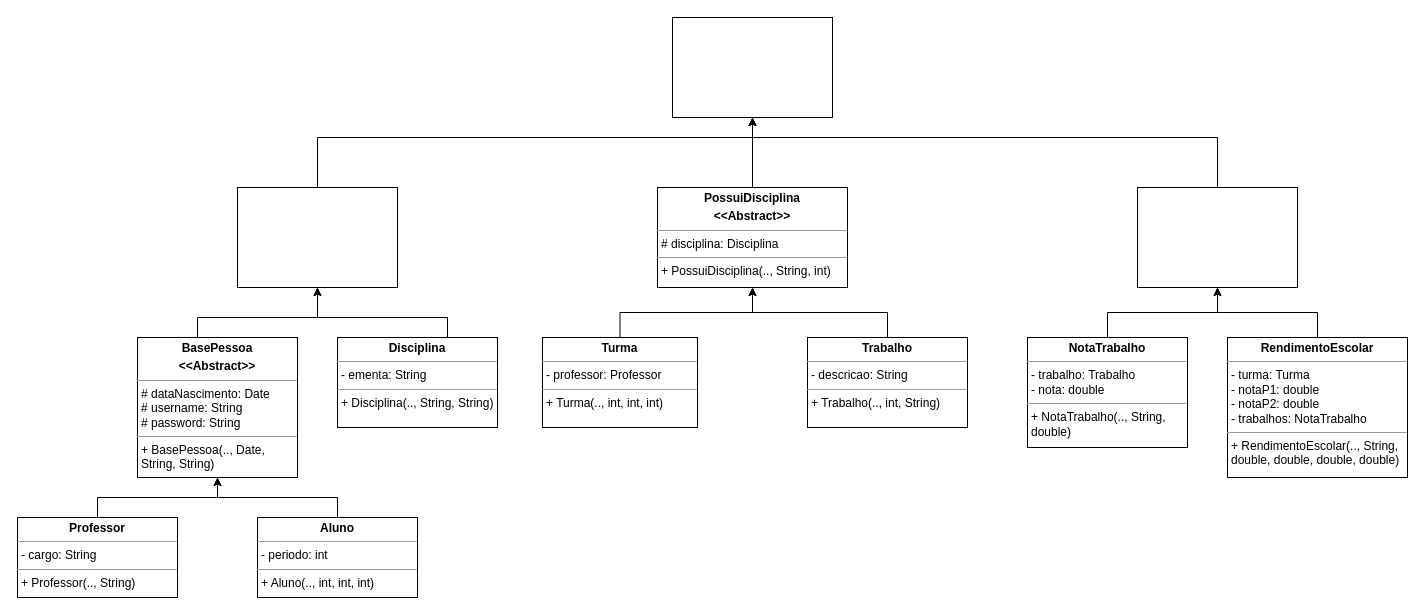
This 1425x615 diagram has some shape labels left out. Each missing label, with the box of its shape:
Identificador <<Abstract>> # codigo: int + Identificador(int): (672, 16, 832, 118)
PossuiAluno <<Abstract>> # aluno: Aluno + PossuiAluno(.., String, int): (1136, 186, 1298, 288)
PossuiNome <<Abstract>> # nome: String + PossuiNome(.., String): (236, 186, 398, 288)
